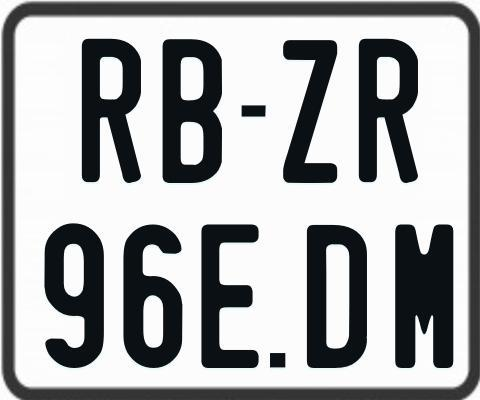6: (123, 224, 186, 369)
9: (44, 221, 106, 368)
B: (162, 36, 227, 186)
D: (307, 223, 373, 369)
E: (199, 224, 257, 367)
M: (395, 224, 453, 373)
R: (79, 36, 144, 184), (358, 37, 420, 184)
Z: (280, 38, 339, 182)
